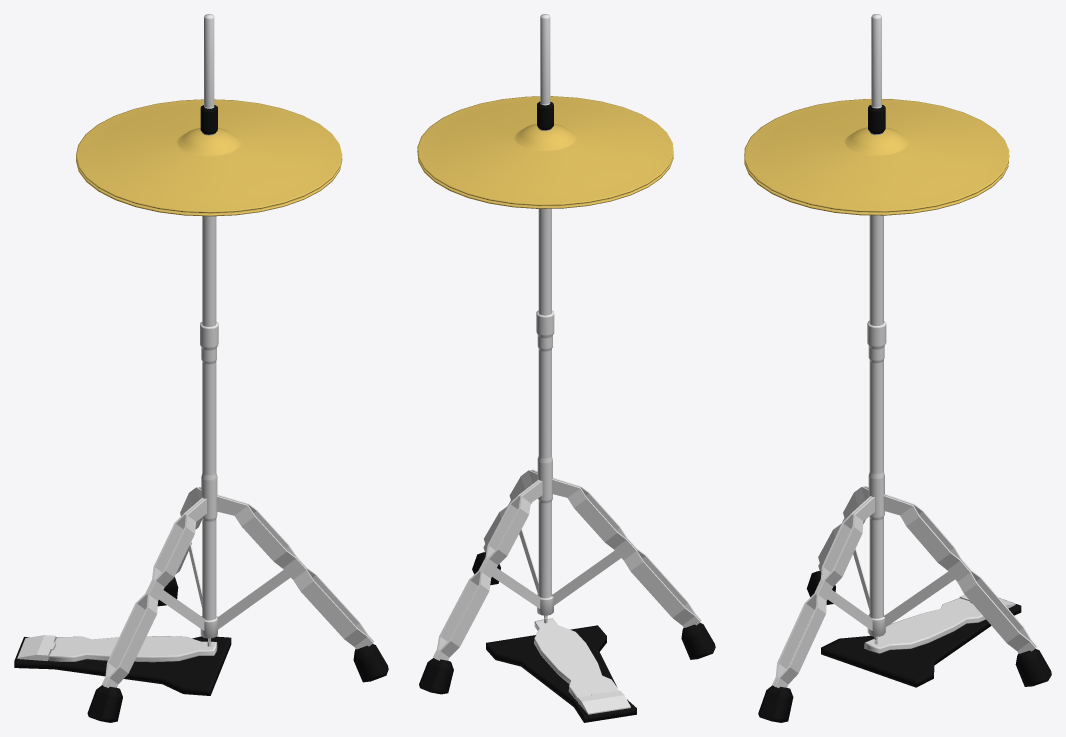
Rendered from HighHats.fbx.
3 views of the same model, side by side, from view 1: azimuth 30°, elevation 25°; view 2: azimuth 150°, elevation 25°; view 3: azimuth 270°, elevation 25° (orthographic). The views are drawn at different scales.
Parts seen in each view (by area): view 1: HighHat_LOD0; view 2: HighHat_LOD0; view 3: HighHat_LOD0.
Boxes of the visible parts, left/top/right/bottom form: HighHat_LOD0: left=14, top=14, right=388, bottom=722; HighHat_LOD0: left=417, top=14, right=715, bottom=722; HighHat_LOD0: left=744, top=14, right=1051, bottom=722.
Size of what is drawn, in the model's own units: 43.44 by 98.94 by 42.26.
